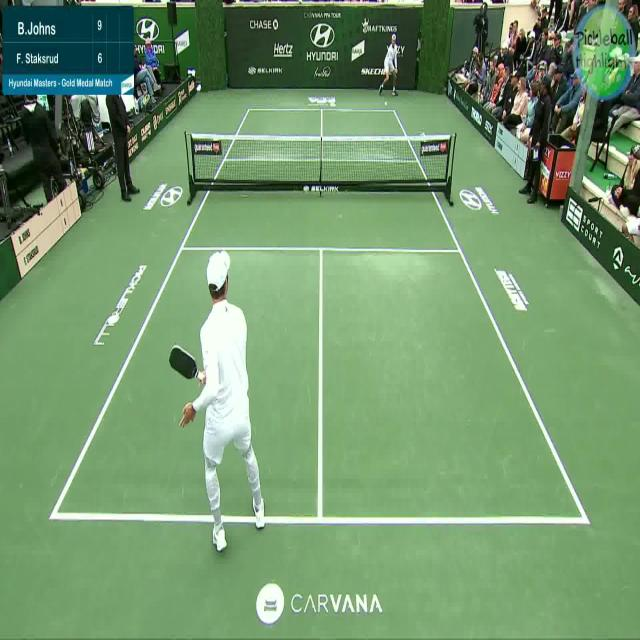ball: (384, 100, 387, 106)
